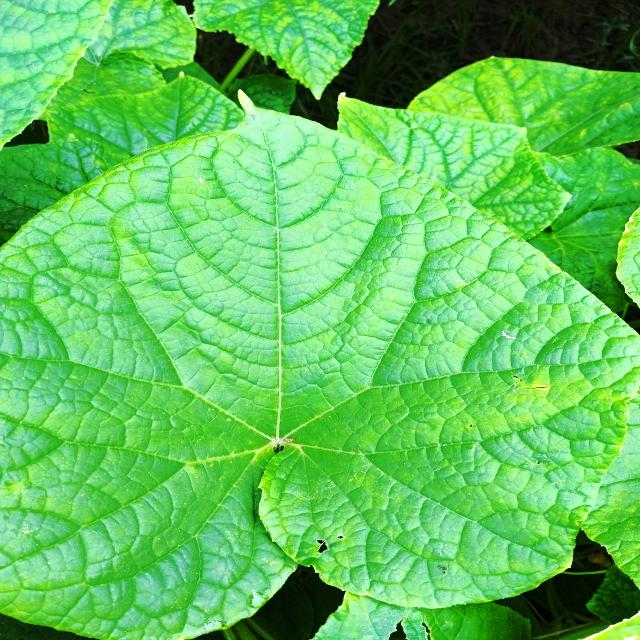Fresh-Leaf: (0, 83, 640, 640)
